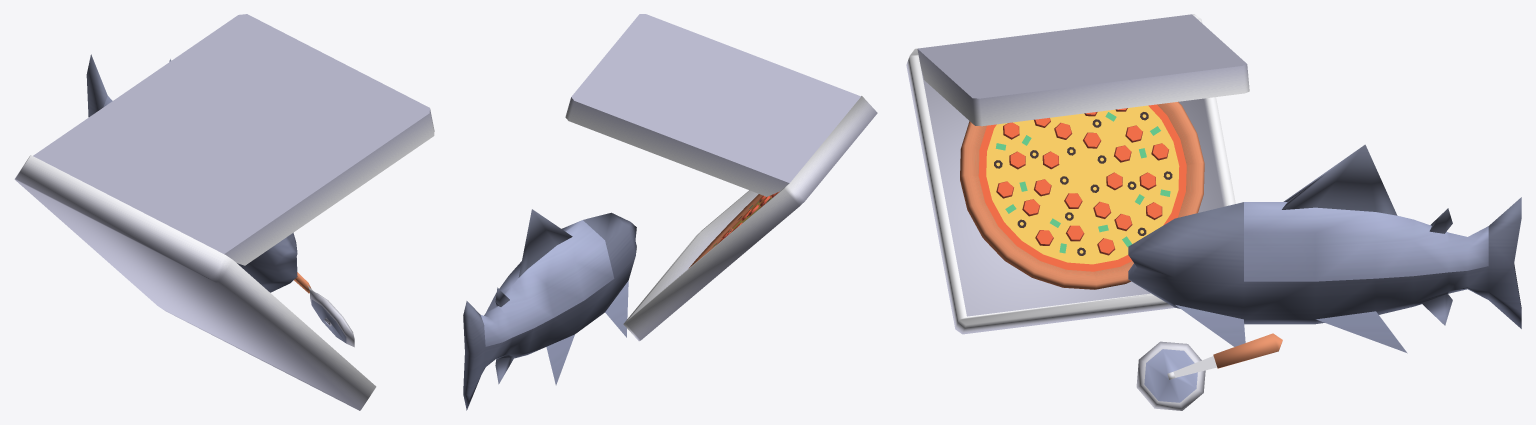
Rendered from fish_pizza.glb.
3 renders of one model, left to right at view 1: azimuth 30°, elevation 25°; view 2: azimuth 150°, elevation 25°; view 3: azimuth 270°, elevation 25°, orthographic. The views are drawn at different scales.
Parts seen in each view (by area): view 1: pizza-box, fish, pizza-cutter; view 2: pizza-box, fish, pizza; view 3: pizza-box, fish, pizza, pizza-cutter.
Boxes of the visible parts, x1,y1,x2,y2 form: pizza-box: [14, 14, 434, 410]; fish: [86, 54, 297, 292]; pizza-cutter: [294, 272, 354, 347]; pizza-box: [565, 14, 877, 341]; fish: [463, 209, 636, 410]; pizza: [688, 191, 779, 268]; pizza-box: [906, 14, 1249, 334]; fish: [1128, 144, 1521, 353]; pizza: [960, 101, 1204, 289]; pizza-cutter: [1136, 333, 1282, 410].
Bounding box in the file's own units: 0.5794 × 0.5472 × 0.9713.
4 materials, 4 textured.
